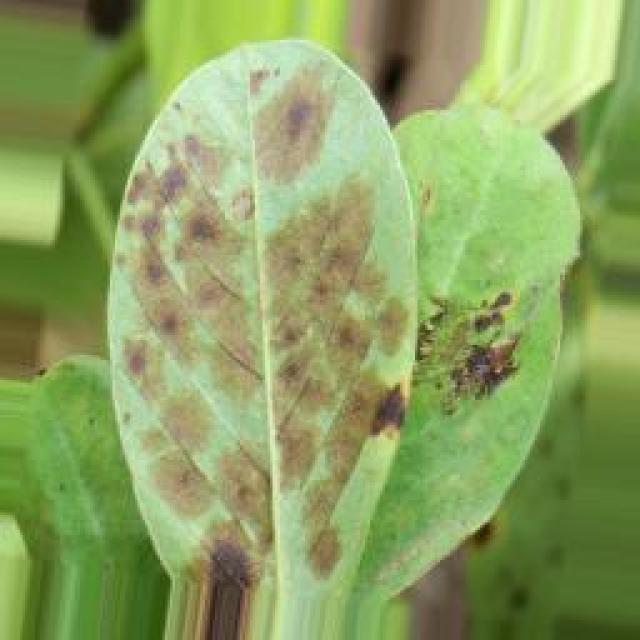Whitefly: (72, 0, 548, 608)
